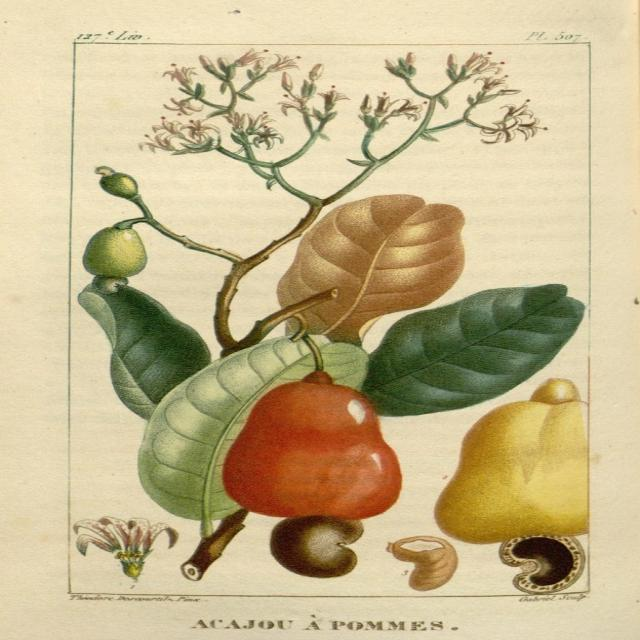Pear: (222, 334, 406, 518), (433, 375, 595, 547)
